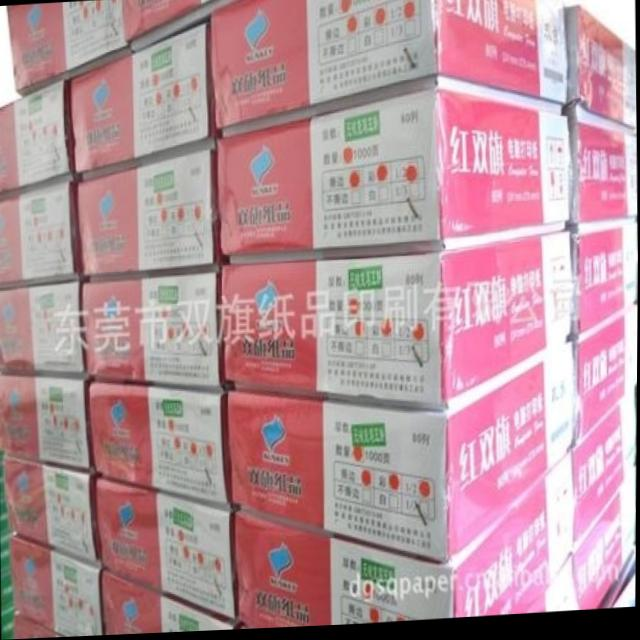box: (228, 346, 575, 566), (222, 234, 572, 409), (235, 453, 575, 631), (216, 92, 571, 257), (210, 0, 568, 132), (70, 24, 215, 176), (97, 471, 240, 621), (77, 151, 222, 278), (89, 381, 232, 507), (82, 274, 222, 388), (6, 0, 129, 97), (4, 452, 101, 563), (571, 396, 636, 556), (13, 532, 104, 638), (571, 308, 638, 450), (564, 9, 636, 134), (102, 572, 242, 636), (0, 374, 93, 470), (0, 77, 76, 194), (0, 176, 81, 285), (575, 474, 636, 615), (567, 110, 637, 228), (0, 278, 86, 373), (570, 226, 637, 341), (120, 0, 199, 45), (523, 556, 578, 616), (13, 616, 61, 639), (199, 0, 211, 7)
